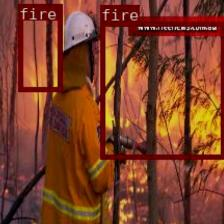fire: (99, 20, 224, 158), (18, 3, 61, 91)
